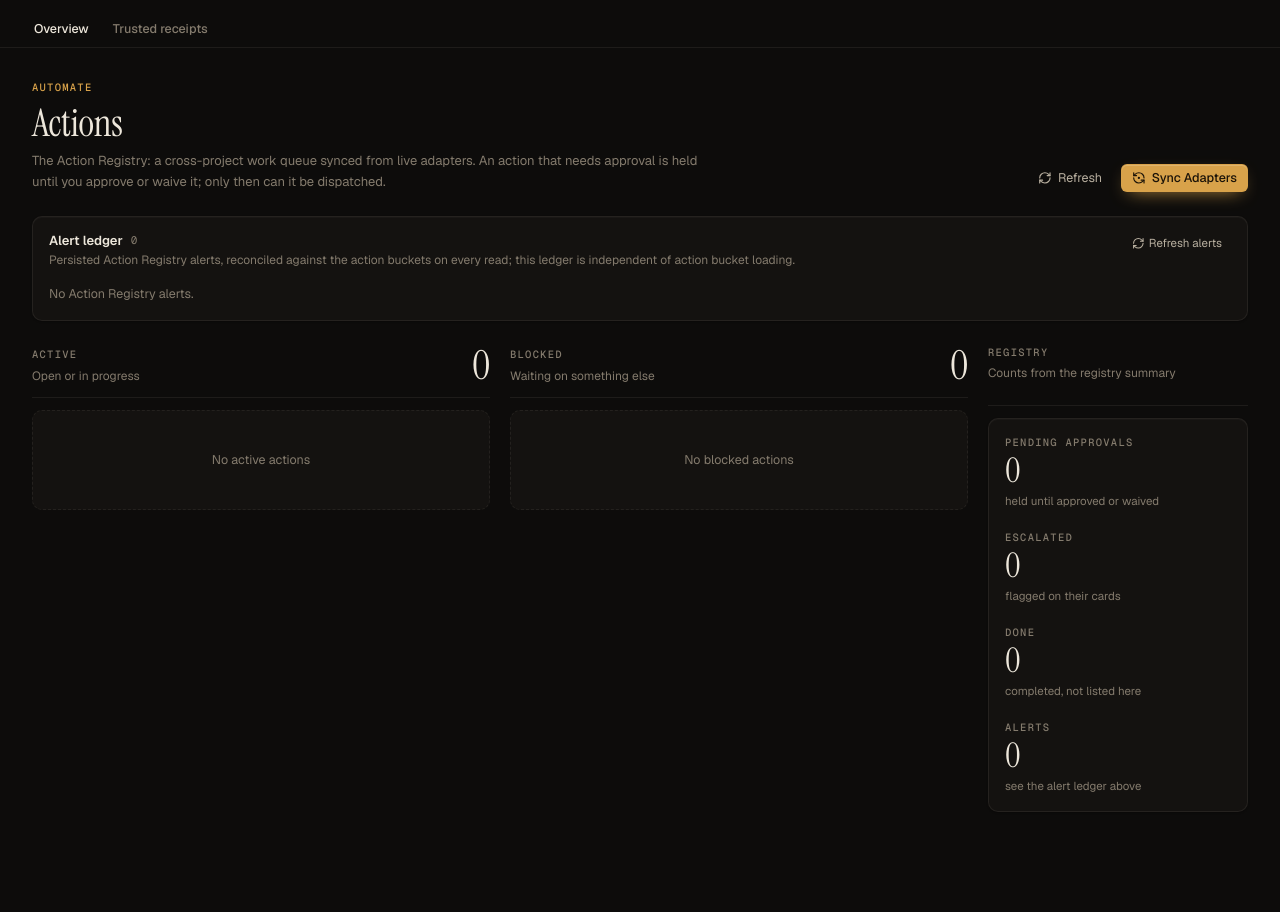
Test case: Actions page toast accessibility › announces a live primary-surface mutation toast
The image size is (1280, 912).
Click the button "Sync Adapters": (1185, 178) x1=1121 y1=164 x2=1248 y2=192
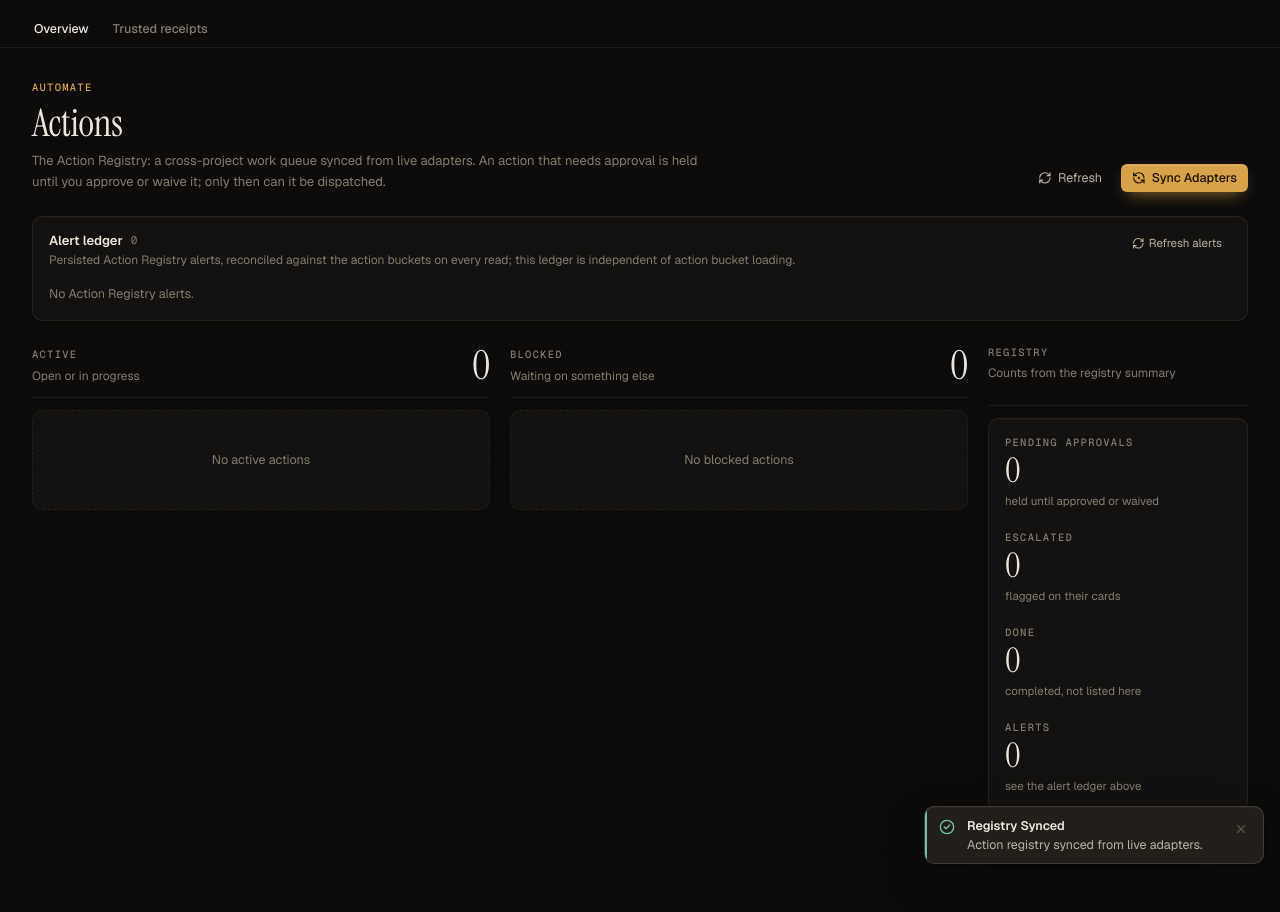
expect the text "Action registry synced from live adapters." is shown: met, box x1=967 y1=817 x2=1065 y2=834
